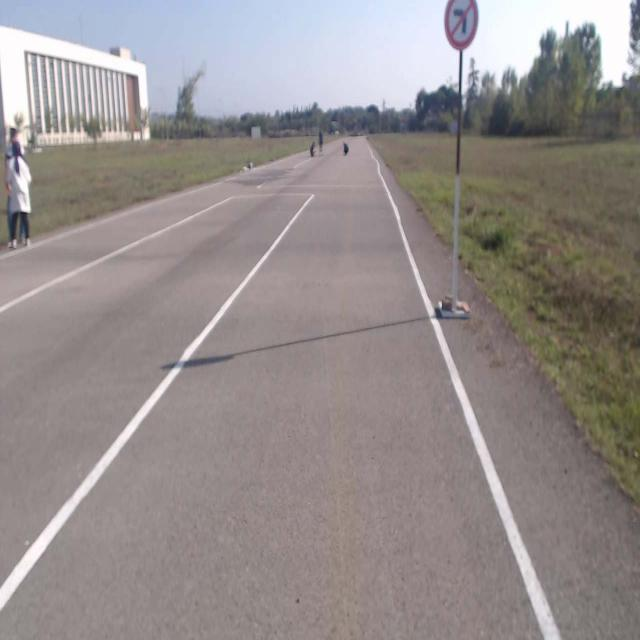soladonulmez: (444, 1, 478, 51)
